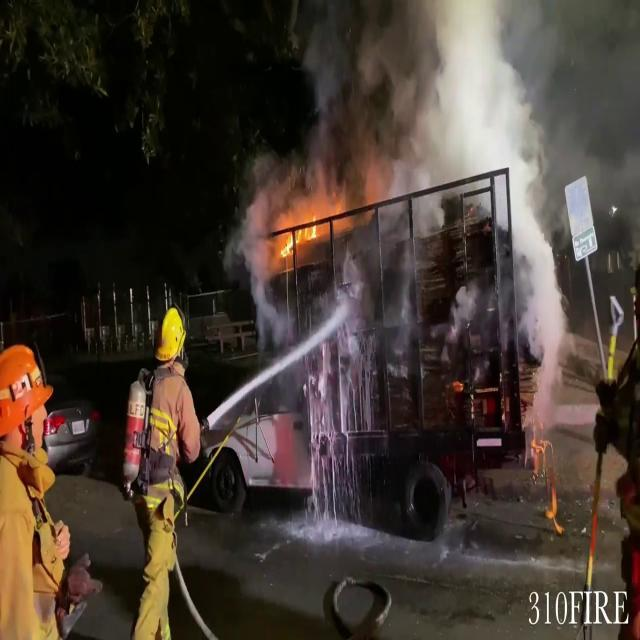Fire: (272, 206, 328, 262)
Smoke: (250, 0, 636, 224), (498, 149, 568, 372)
